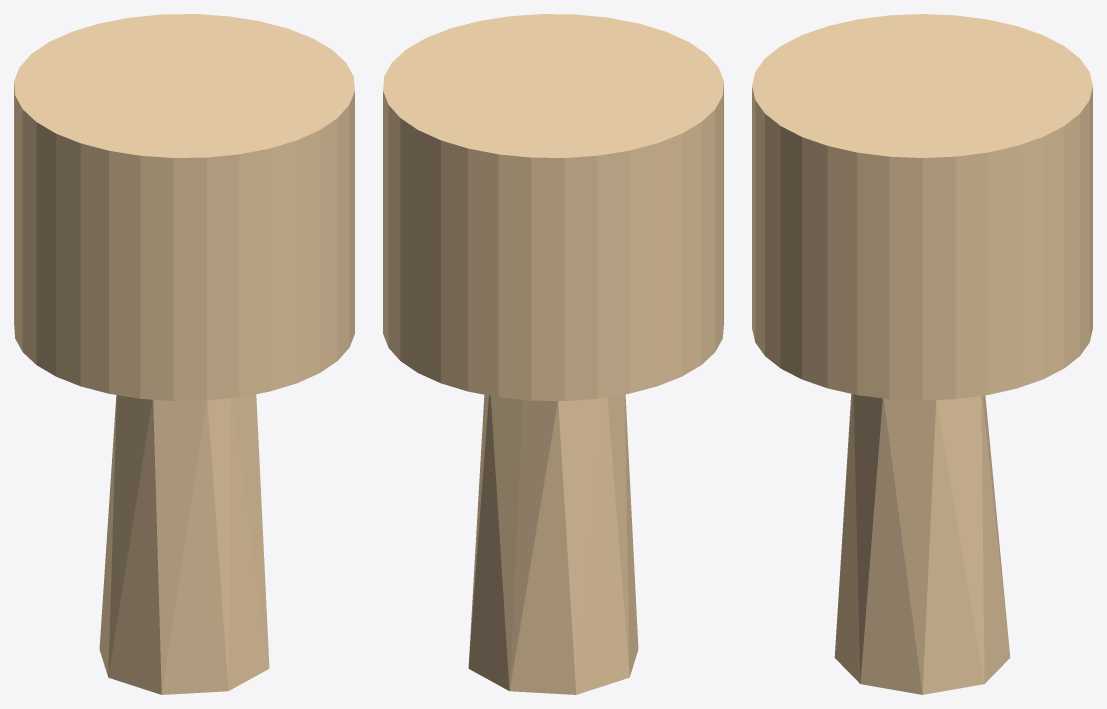
Rendered from table_lamp_01.glb.
The picture shows the model from 3 angles, left to right: view 1: azimuth 30°, elevation 25°; view 2: azimuth 150°, elevation 25°; view 3: azimuth 270°, elevation 25°; orthographic projection.
Parts seen in each view (by area): view 1: Cylinder.001, Cylinder.002; view 2: Cylinder.001, Cylinder.002; view 3: Cylinder.001, Cylinder.002.
Boxes of the visible parts, left/top/right/bottom form: Cylinder.001: left=14, top=14, right=354, bottom=400; Cylinder.002: left=99, top=394, right=269, bottom=694; Cylinder.001: left=383, top=14, right=723, bottom=400; Cylinder.002: left=468, top=394, right=638, bottom=694; Cylinder.001: left=752, top=14, right=1092, bottom=400; Cylinder.002: left=834, top=394, right=1010, bottom=694.
Bounding box in the file's own units: 0.2997 × 0.5547 × 0.2997.
1 material, 1 textured.
